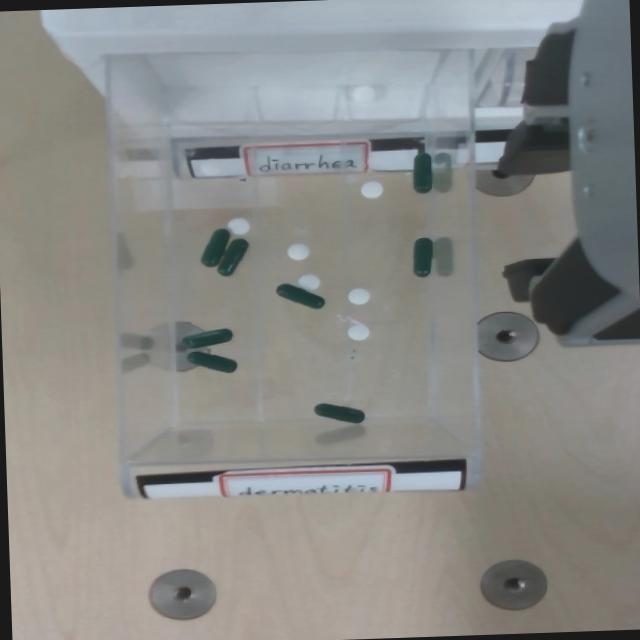ganakan_tab: (224, 215, 251, 236), (357, 180, 384, 200), (344, 322, 371, 341), (343, 286, 370, 305), (284, 242, 310, 261), (295, 272, 320, 291)
monodoxy_cap: (272, 281, 324, 311), (213, 238, 249, 277), (197, 227, 231, 267), (308, 401, 363, 425), (184, 350, 236, 375), (275, 284, 324, 309), (215, 239, 247, 277), (180, 326, 233, 347), (199, 229, 228, 267), (407, 152, 432, 194), (408, 237, 433, 278), (185, 352, 236, 372), (312, 404, 362, 424), (179, 330, 230, 349), (411, 237, 432, 277), (411, 153, 431, 194)
